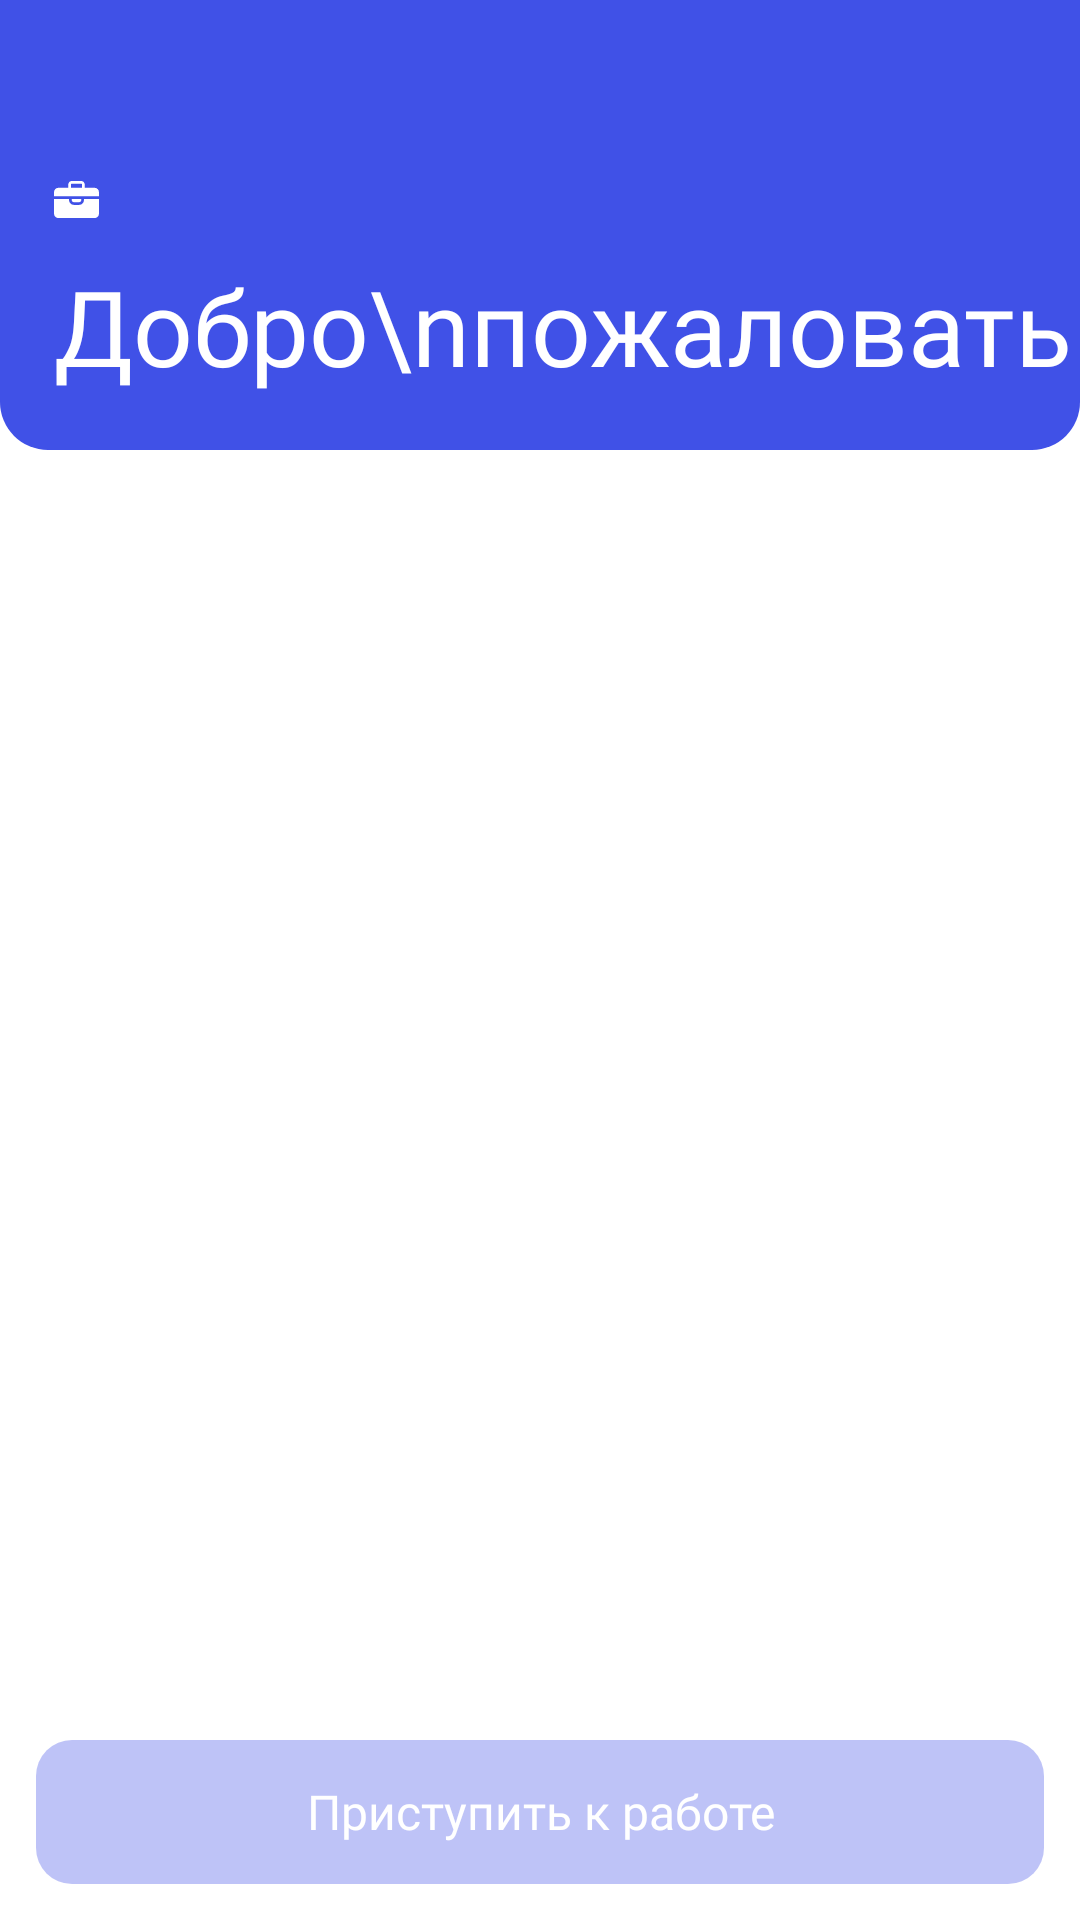

Icon click points for this 1080 x 1920 phone screenshot, format [x,y]:
case: [76,199]
